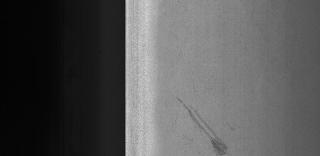water spot: (174, 92, 246, 156)
